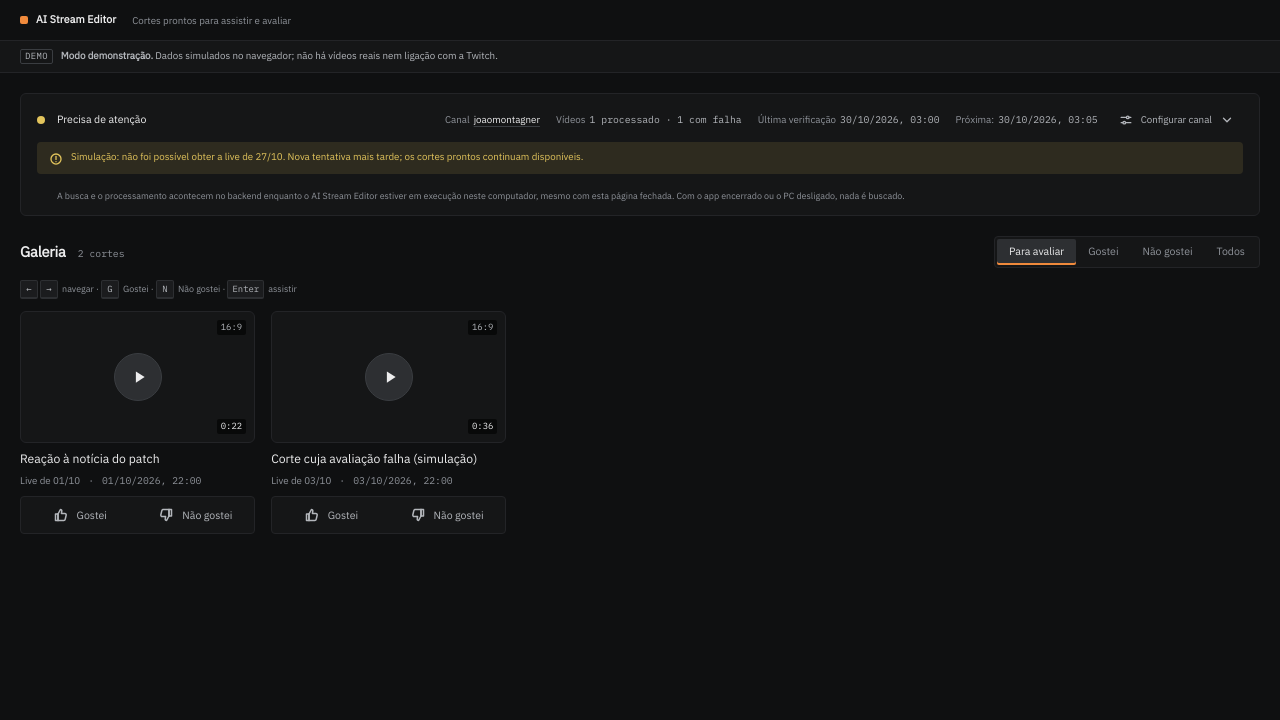
Scenario: Galeria: estados da automação › falha parcial avisa sem impedir assistir aos cortes prontos
Expected: the text "não foi possível obter a live de 27/10" is shown, [71, 150, 584, 163]
Expected: the text "Precisa de atenção" is shown, [57, 112, 146, 126]
Click the button named "Assistir Reação à notícia do patch": (138, 377) [21, 312, 254, 442]
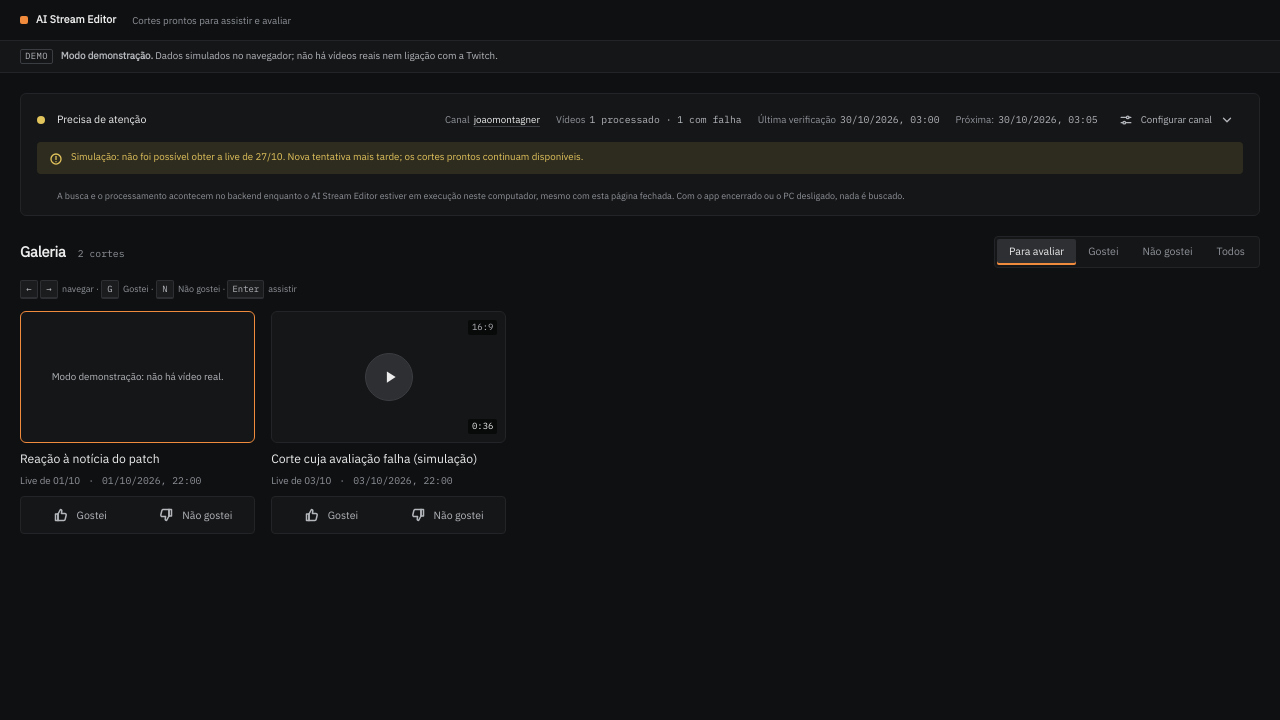
Expected: the text "Modo demonstração: não há vídeo real." is shown, [52, 370, 224, 383]
